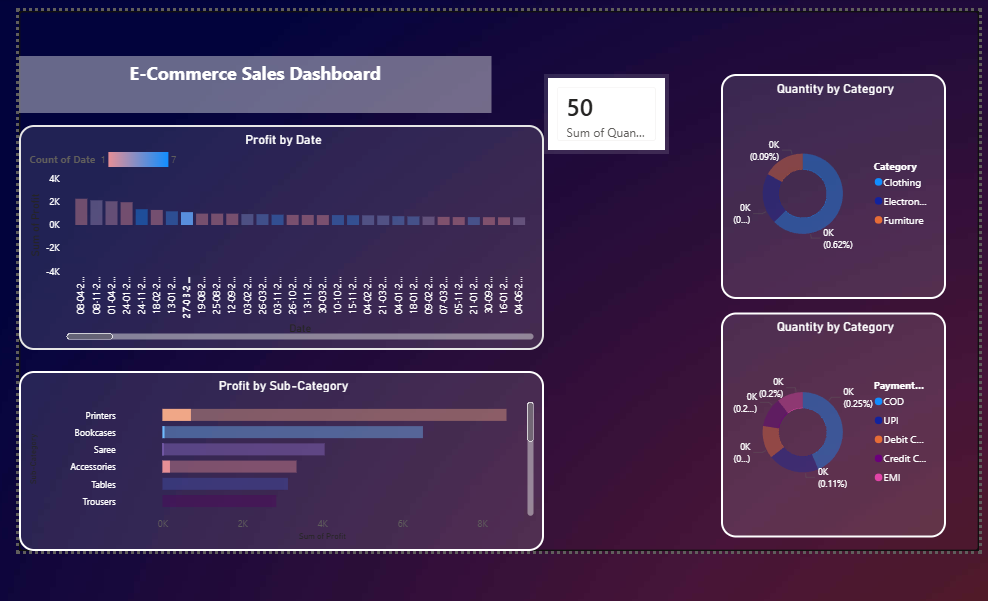

The page's visual inventory and layout, read from the dashboard file:
{"tool":"powerbi","page":{"name":"Page 1","canvas":[1280,720],"ordinal":0},"visuals":[{"type":"textbox","box":[0,60,630,76],"z":0},{"type":"columnChart","title":" Profit by Date","fields":{"Category":["Orders.Date"],"Y":["Sum(Details.Profit)"]},"box":[0,151.7,700,300],"z":1000},{"type":"barChart","title":"Profit by Sub-Category","fields":{"Category":["Details.Sub-Category"],"Y":["Sum(Details.Profit)"]},"box":[0,480,700,240],"z":2000},{"type":"donutChart","title":"Quantity by Category","fields":{"Category":["Details.Category"],"Y":["Sum(Details.Quantity)"]},"box":[935,83.3,300,300],"z":3000},{"type":"donutChart","title":"Quantity by Category","fields":{"Y":["Sum(Details.Quantity)"],"Category":["Details.PaymentMode"]},"box":[935,401.7,300,300],"z":4000},{"type":"cardVisual","fields":{"Data":["Sum(Details.Quantity)"]},"box":[700,83.3,166.7,106.7],"z":5000}]}

Visuals, with their boxes in screenshot pixels (x1, y1, x2, y2):
textbox: 5:51:485:109
" Profit by Date" columnChart: 5:121:538:349
"Profit by Sub-Category" barChart: 5:371:538:553
"Quantity by Category" donutChart: 717:69:945:297
"Quantity by Category" donutChart: 717:311:945:539
cardVisual - Sum(Details.Quantity): 538:69:665:150
